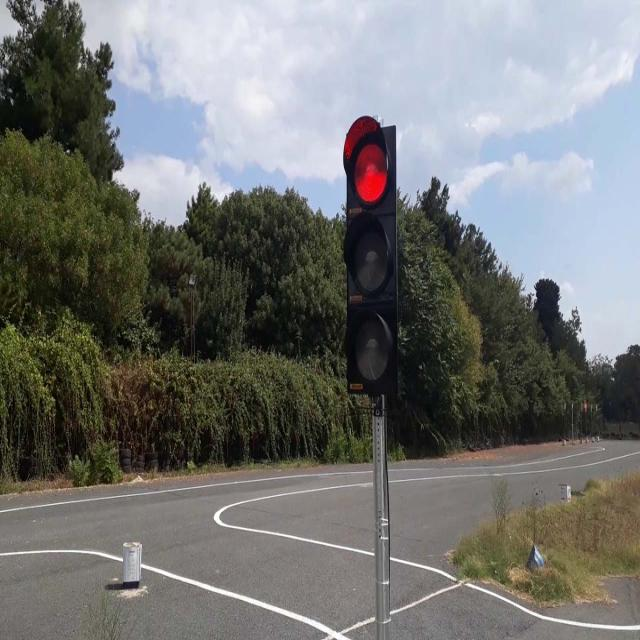kirmizi: (345, 116, 397, 392)
